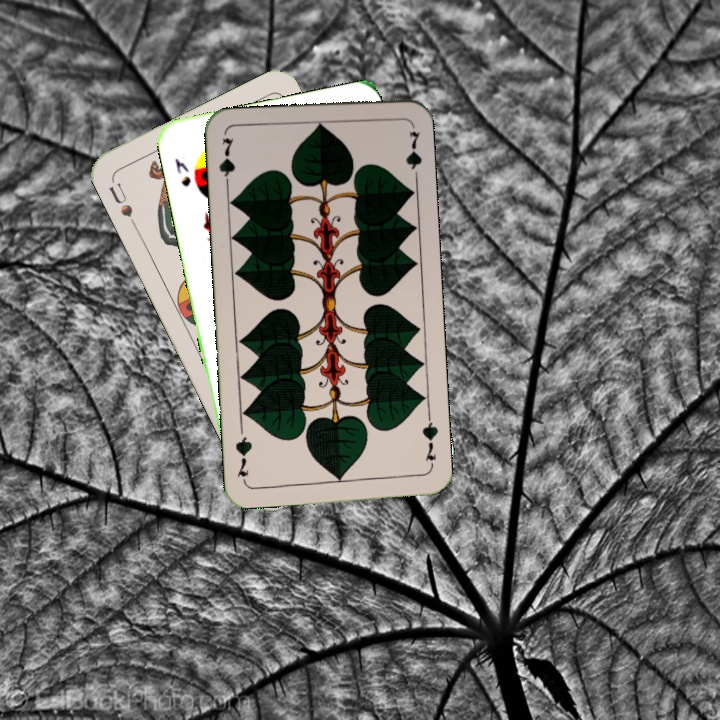G7: (418, 412, 441, 472), (215, 134, 238, 192)
SK: (171, 154, 194, 190)
SU: (104, 179, 140, 231)
